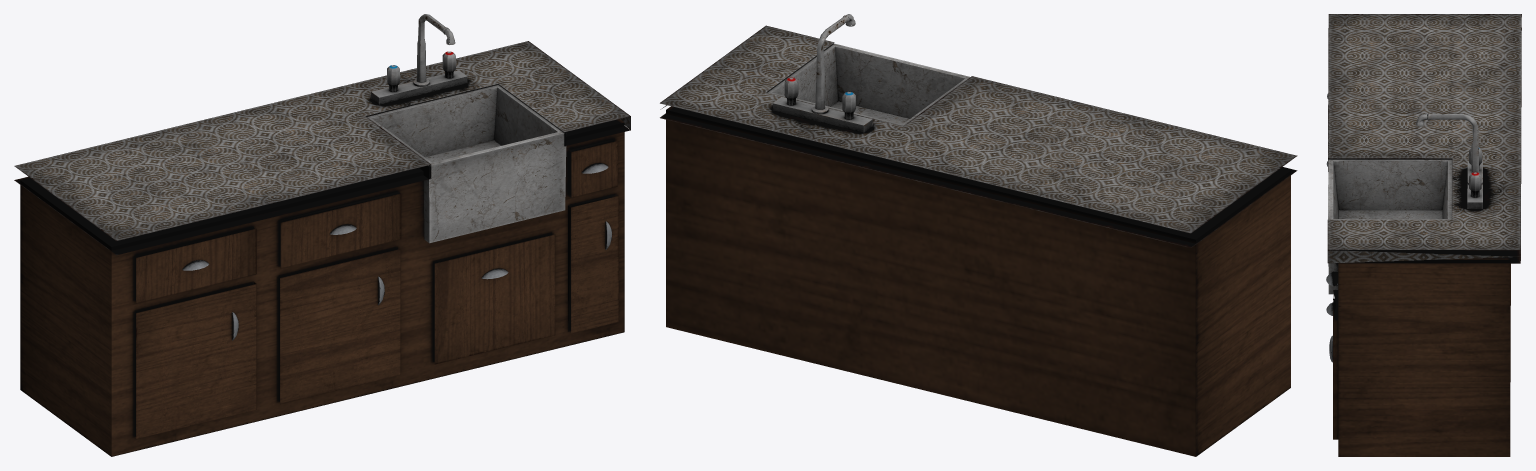
Rendered from kitchen-1.glb.
The picture shows the model from 3 angles, left to right: view 1: azimuth 30°, elevation 25°; view 2: azimuth 150°, elevation 25°; view 3: azimuth 270°, elevation 25°; orthographic projection. The views are drawn at different scales.
Parts seen in each view (by area): view 1: Kitchen; view 2: Kitchen; view 3: Kitchen.
Boxes of the visible parts, left/top/right/bottom form: Kitchen: left=14, top=14, right=630, bottom=456; Kitchen: left=660, top=14, right=1297, bottom=456; Kitchen: left=1326, top=14, right=1521, bottom=456.
Size of the model in its own units: 14.99 by 8.39 by 5.25.
6 materials, 6 textured.
